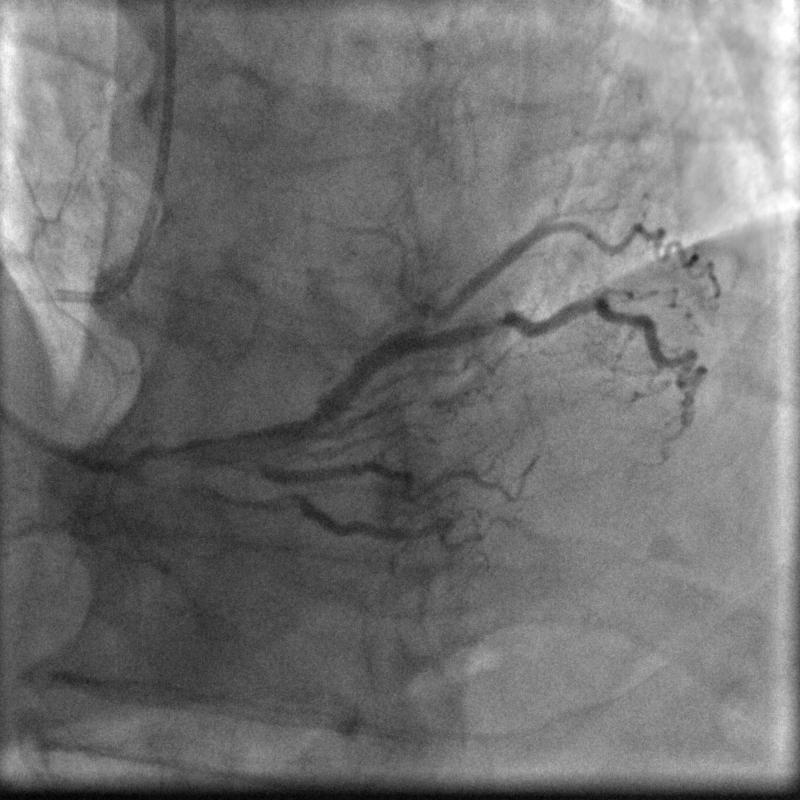Stenosis: (455, 309, 519, 342)
